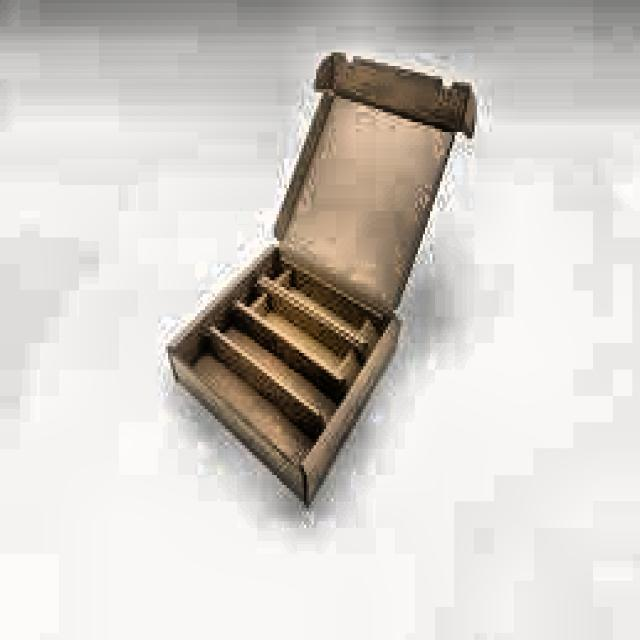cardboard: (163, 49, 474, 504)
